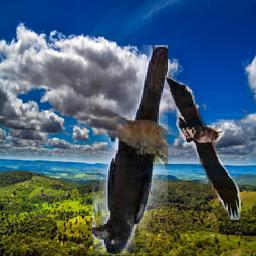Crow: (92, 45, 168, 255), (165, 74, 241, 220)
